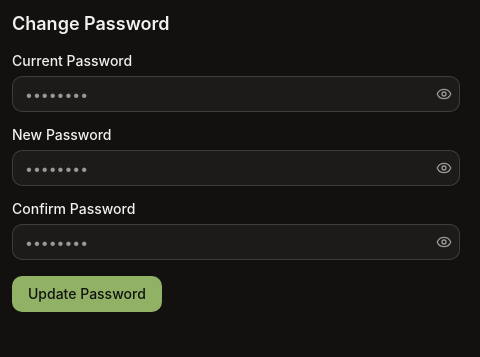
Scenario: ChangePassword › clears error message when user starts typing
In the password field with test id "new-password-input": (236, 168) [12,150,460,186], type "newPassword456"
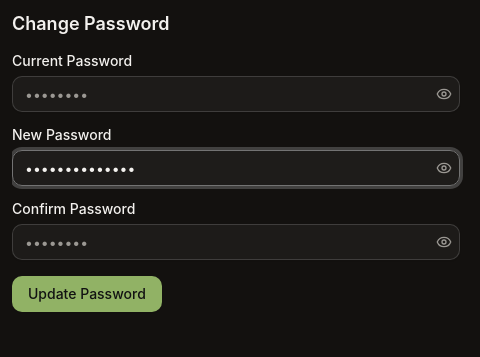
In the password field with test id "confirm-password-input": (236, 242) [12,224,460,260], type "newPassword456"
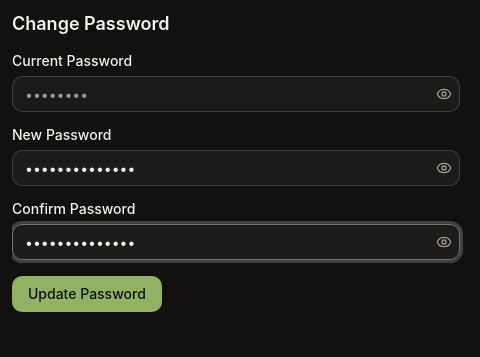
Click the button "Update Password": (87, 294) [12,276,162,312]
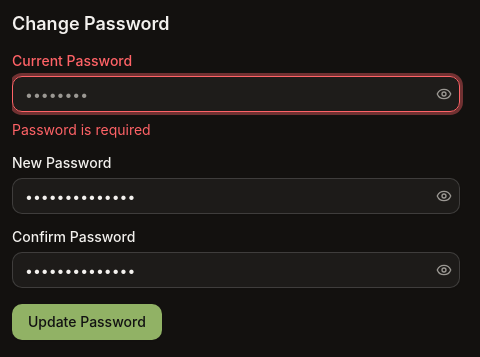
Now the text "Password is required" is shown, box [12,121,151,138]
In the password field with test id "current-password-input": (236, 94) [12,76,460,112], type "oldPassword123"
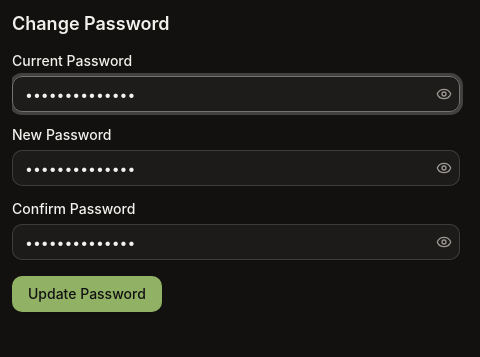
Now the text "Password is required" is not shown
